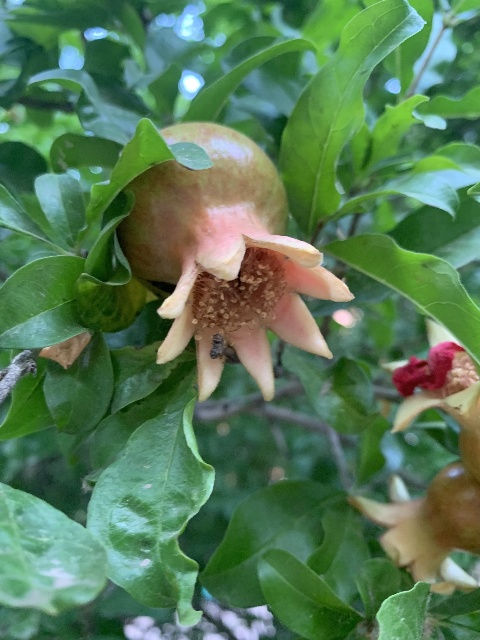early-fruit: (118, 119, 355, 406), (347, 462, 480, 596), (381, 317, 480, 481)
